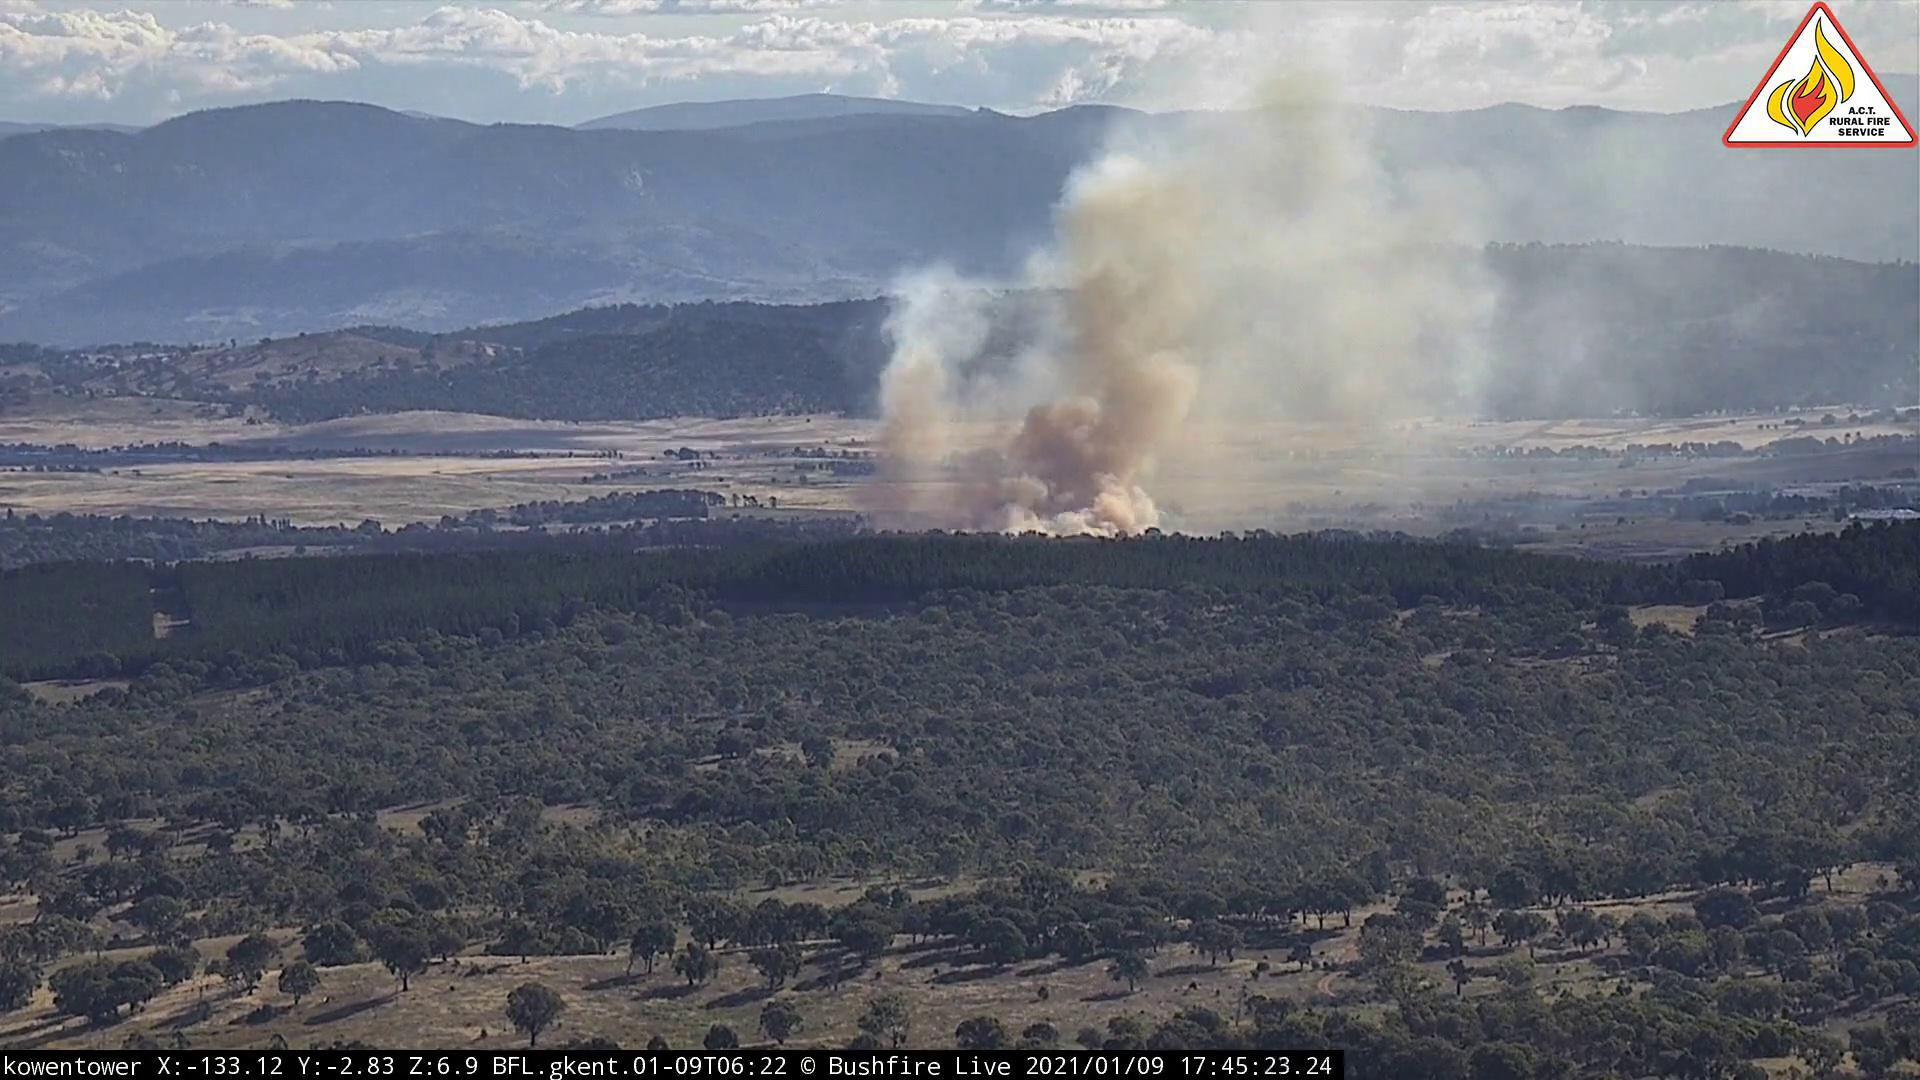instance_salient_object: (836, 20, 1720, 550)
